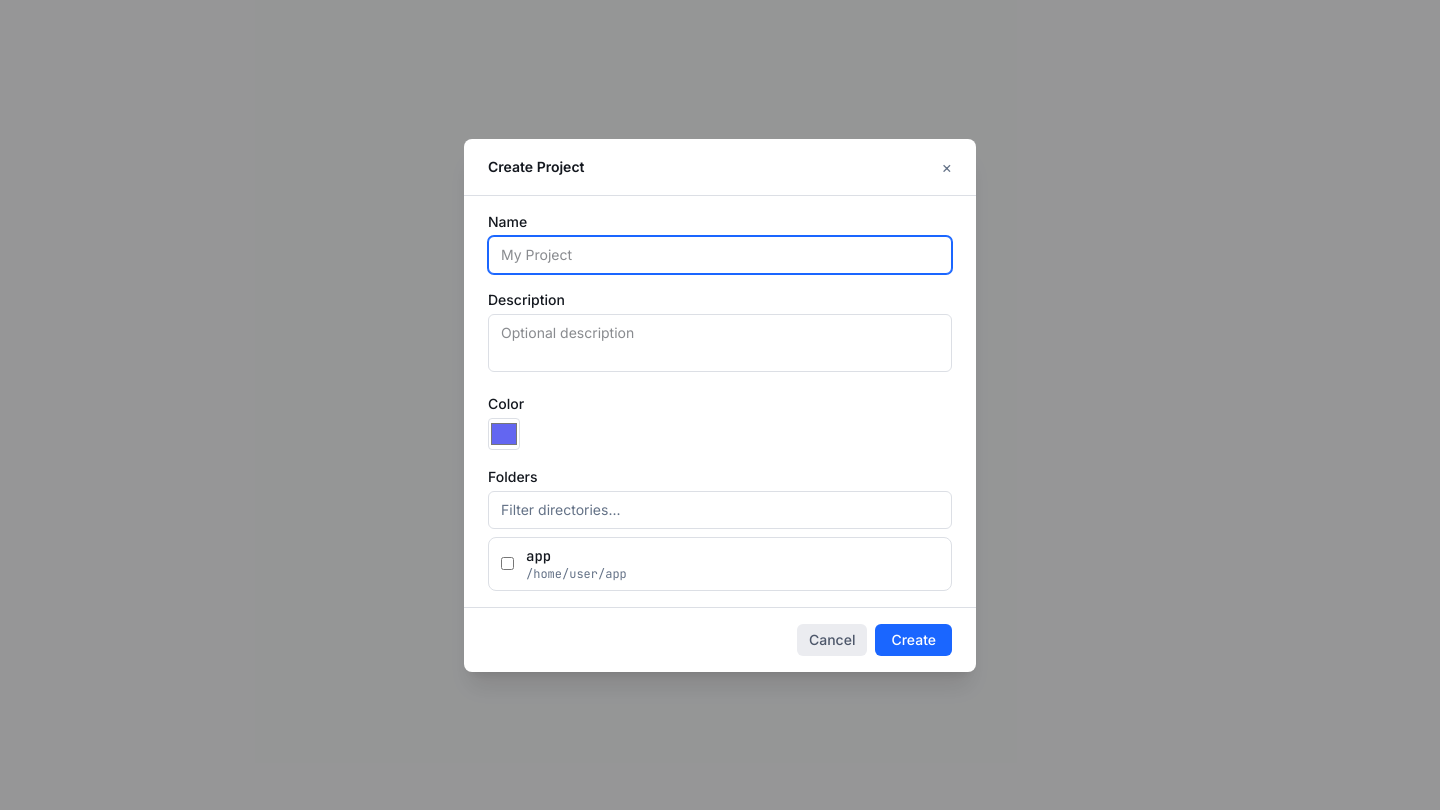
Test: ProjectDialog › shows validation error for no folders selected
This screenshot has width=1440, height=810.
Type "Test" into the field with placeholder "My Project".
click(720, 254); type("Test")  # box [488, 236, 952, 274]
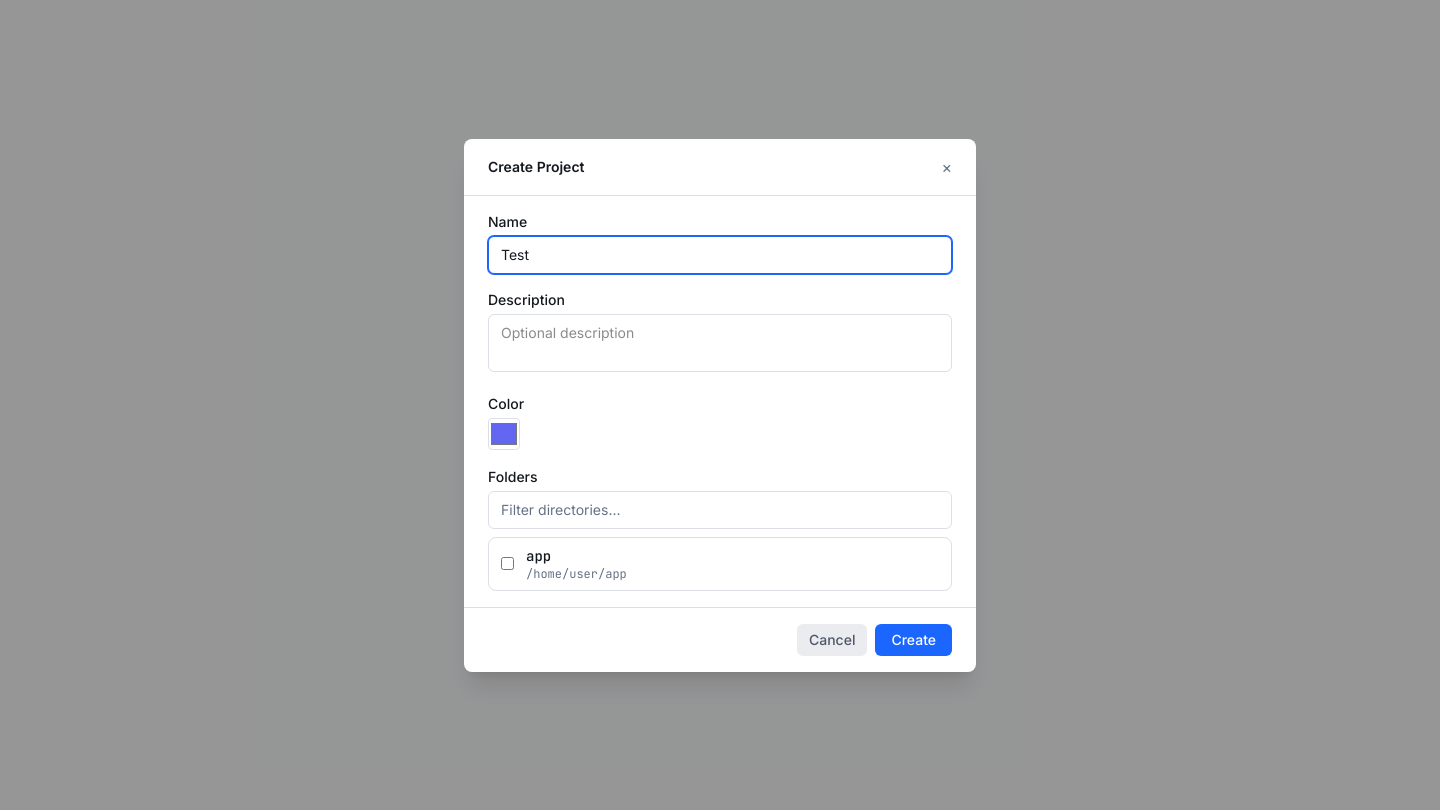
Click the button "Create".
click(914, 640)  # box [875, 624, 952, 656]
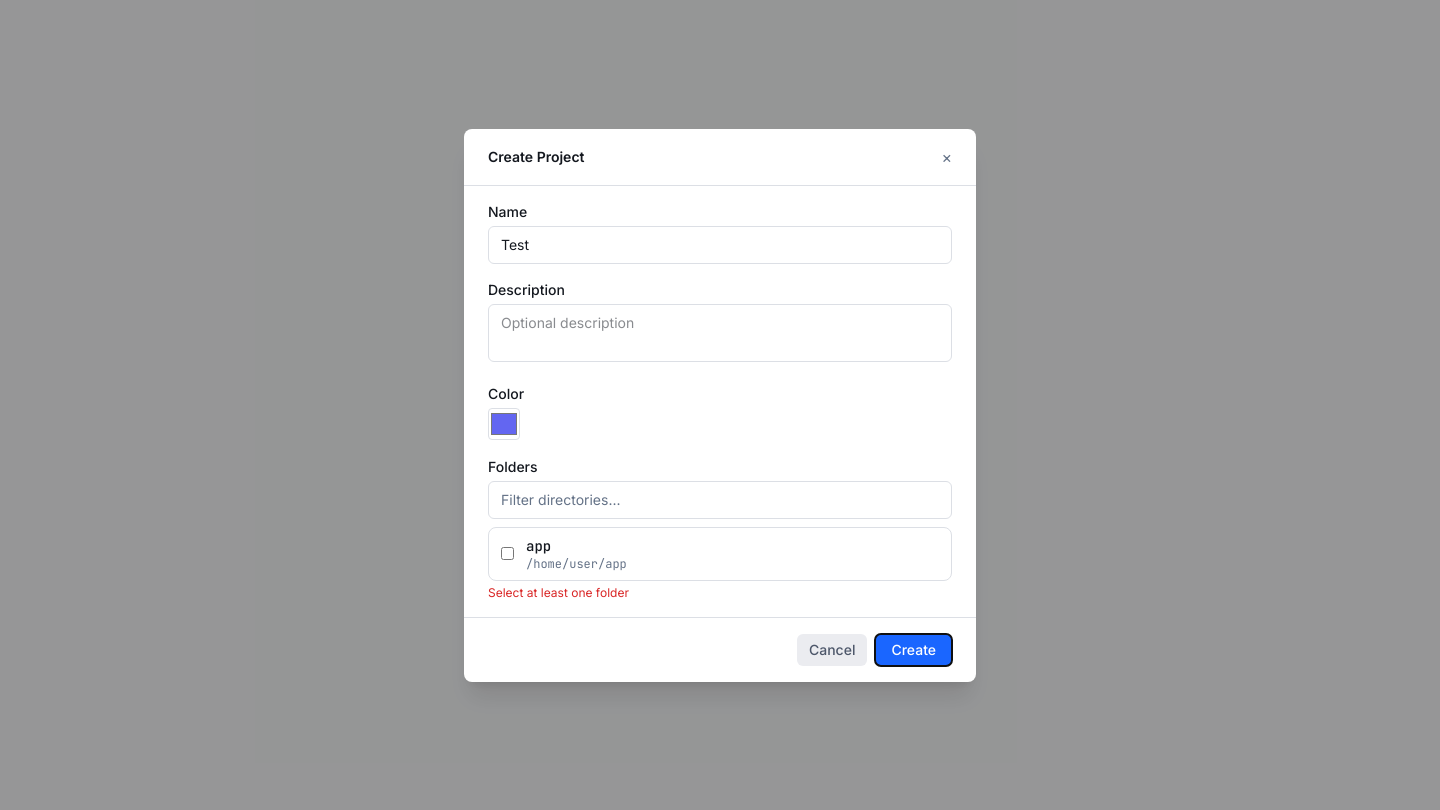
Now the text "Select at least one folder" is shown, box [488, 584, 629, 600]
